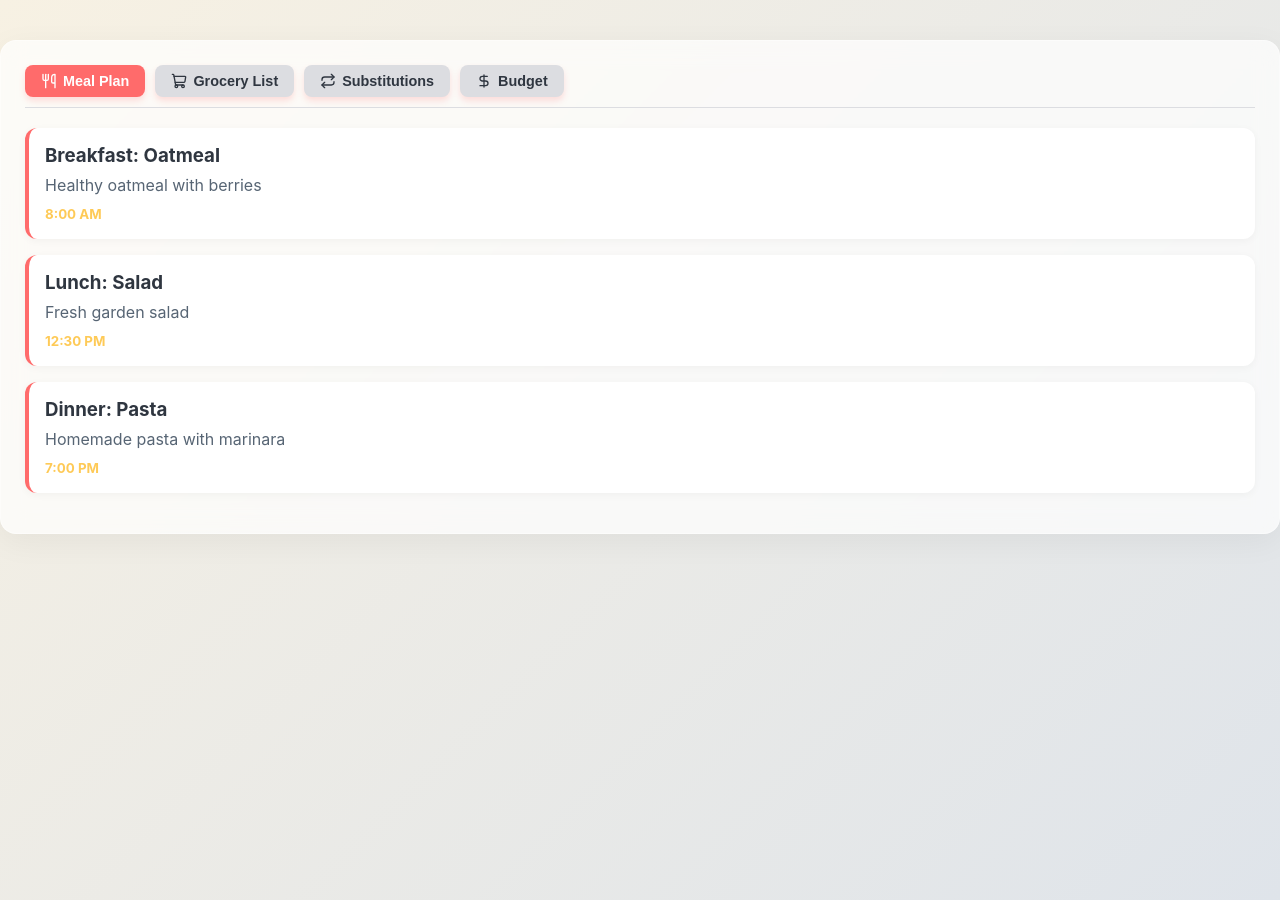
Test: MealPlanResults › switches to budget tab on click
Click the tab "Budget" at (512,81), box [460, 65, 564, 97]
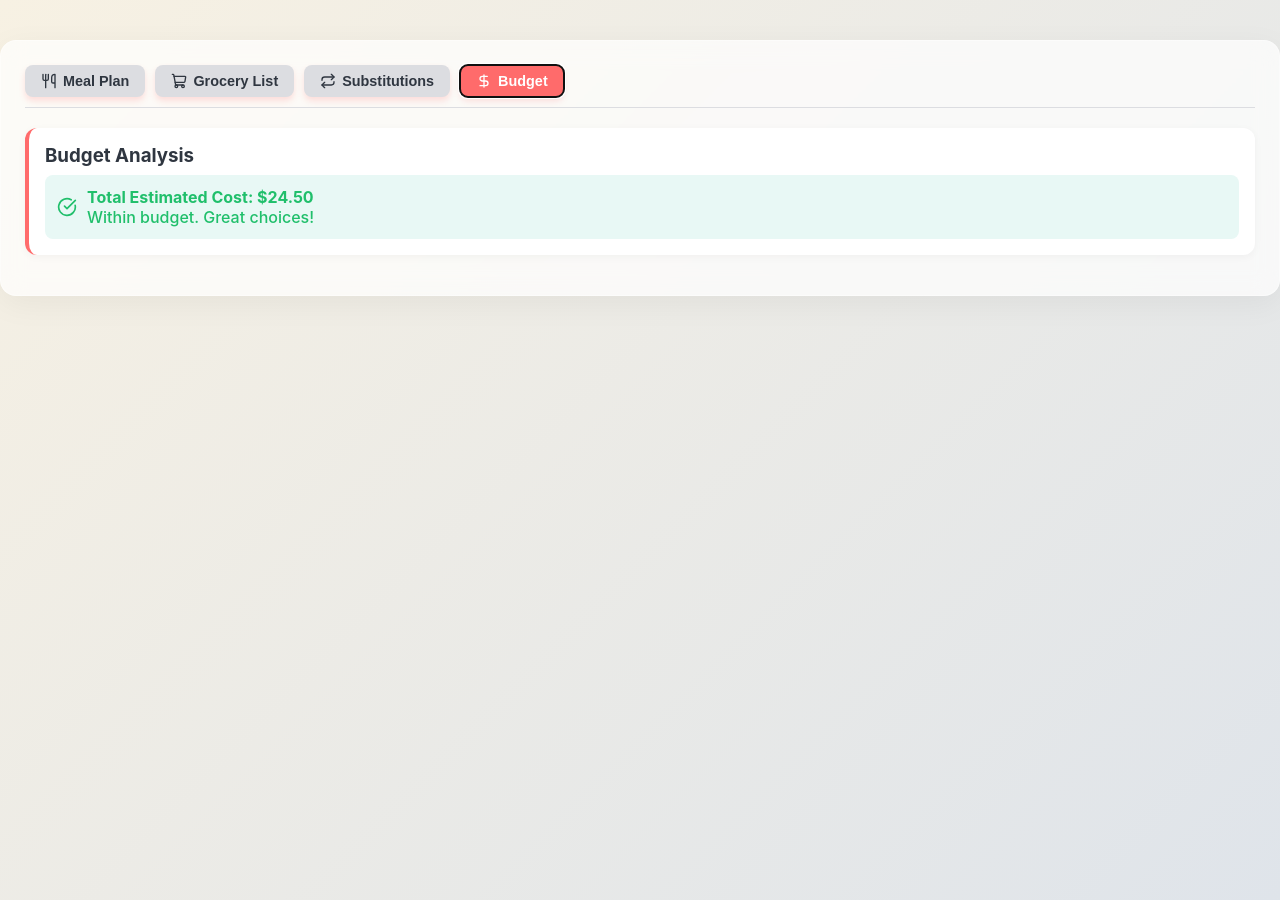
Now the heading "Budget Analysis" is shown, box [45, 144, 194, 167]
Now the text "Total Estimated Cost: $24.50" is shown, box [87, 187, 314, 207]
Now the text "Total Estimated Cost: $24.50Within budget. Great choices!" is shown, box [87, 187, 314, 227]
